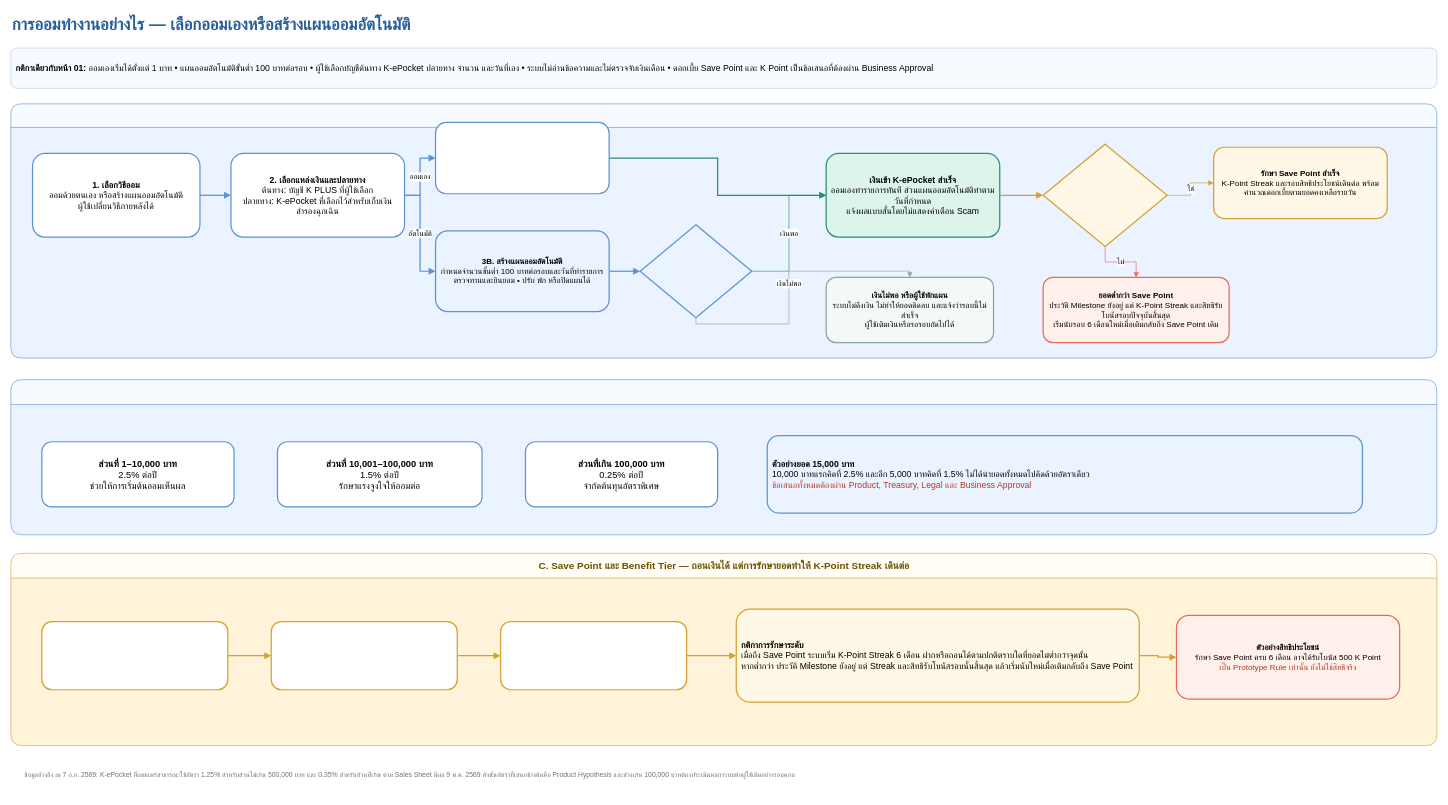
Image size: 1448x805. Some labels were removed from this diagram. Here are the shapes that lost their labels. From the top down, the box of each, then its label:
(435, 122, 609, 194): 3A. ออมด้วยตนเอง ระบุจำนวน เริ่มได้ตั้งแต่ 1 บาท ตรวจทานและยืนยันรายการทันที
(1042, 143, 1167, 247): วันสรุปรอบ: ยอดคงเหลือไม่ต่ำกว่า Save Point ปัจจุบัน?
(10, 103, 1437, 358): A. เลือกวิธีออมและเติมเงินเข้า K-ePocket สำหรับเงินสำรองฉุกเฉิน
(639, 224, 752, 318): ถึงวันที่กำหนด บัญชีต้นทาง มีเงินเพียงพอ?
(10, 379, 1437, 535): B. ข้อเสนอดอกเบี้ยแบบขั้นบันได — คิดแยกตามส่วนของยอดเงิน (Prototype Rate)
(41, 621, 228, 690): Bronze — เริ่มต้น ถึง 1/3 ของเป้าหมาย ตัวอย่าง: 10,000 จาก 30,000 บาท
(270, 621, 458, 690): Silver — ต่อเนื่อง ถึง 2/3 ของเป้าหมาย ตัวอย่าง: 20,000 จาก 30,000 บาท
(500, 621, 687, 690): Gold — มั่นคง ถึง 100% ของเป้าหมาย ตัวอย่าง: 30,000 บาท
